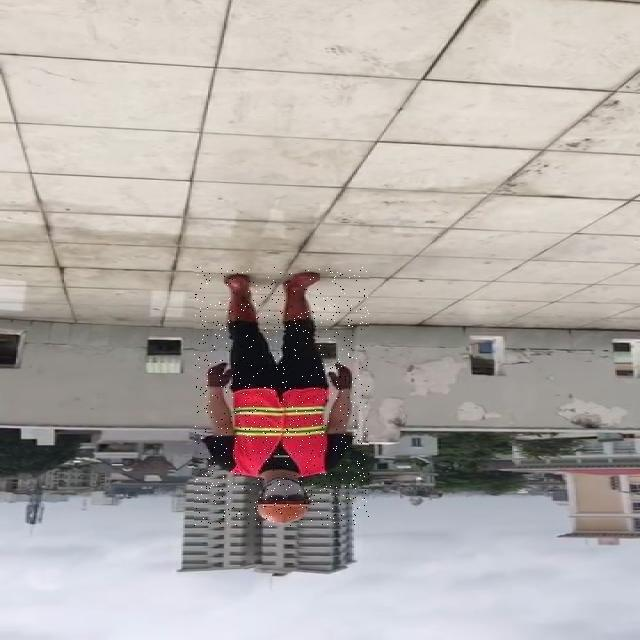Boots: (276, 272, 320, 322), (222, 274, 256, 322)
Gloves: (201, 361, 235, 394), (326, 361, 356, 392)
Helmet: (250, 502, 314, 522)
Vest: (231, 387, 331, 476)
